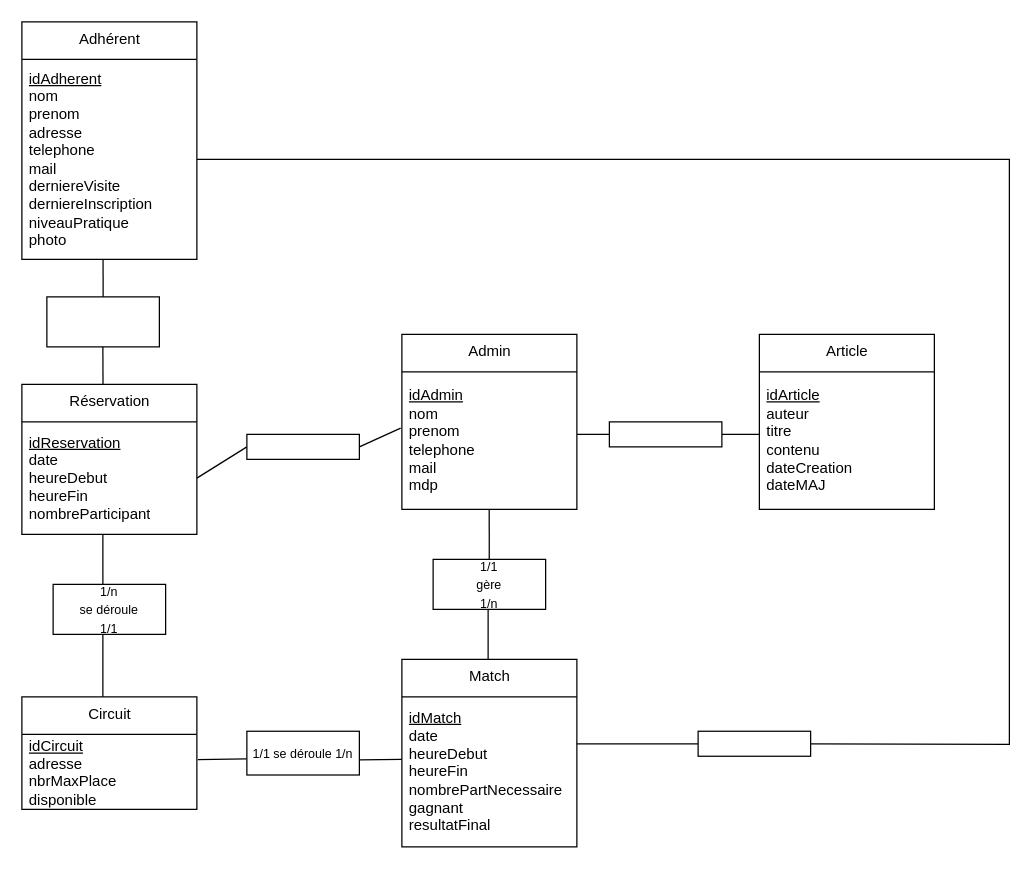
Image size: 1033x869. Some labels were removed from this diagram. The centre of each missing label's shape, as x and y in pixels:
"0/n s'inscrit 1/n" goes at (x=754, y=743).
"1/1 réserve 0/n" goes at (x=102, y=321).
"1/1 écrit 0/n" goes at (x=665, y=434).
"1/n gère 1/1" goes at (x=302, y=446).
